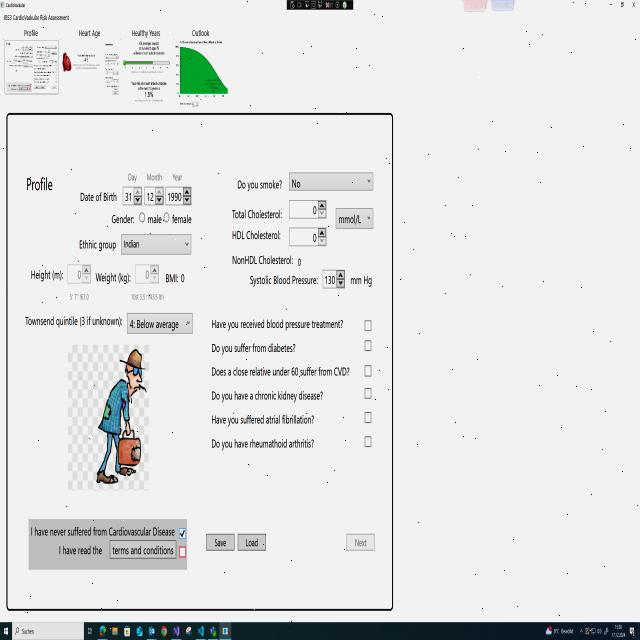button: (107, 539, 177, 567), (237, 524, 271, 557), (344, 531, 378, 558), (204, 532, 236, 554), (629, 0, 637, 12), (618, 0, 625, 11), (606, 0, 614, 8)
checkbox: (362, 313, 375, 337), (362, 406, 377, 426), (359, 384, 375, 402), (362, 361, 376, 381), (360, 434, 374, 453), (360, 338, 374, 357), (178, 521, 190, 541), (178, 544, 189, 563)
dropdownMenu: (288, 168, 377, 196), (120, 231, 196, 258), (125, 309, 198, 337), (334, 204, 377, 234), (554, 627, 583, 636)
icon: (219, 622, 231, 640), (209, 624, 217, 638), (197, 624, 204, 638), (172, 625, 180, 637), (99, 625, 106, 637), (136, 625, 143, 637), (148, 625, 155, 637), (629, 626, 636, 638), (185, 626, 192, 637), (124, 625, 130, 637), (161, 625, 167, 637), (546, 624, 552, 636), (112, 626, 118, 636), (604, 625, 609, 637), (585, 626, 590, 636), (4, 624, 8, 636), (597, 627, 602, 636), (88, 626, 92, 636), (591, 628, 596, 636)
input: (12, 622, 84, 640)
label: (208, 306, 346, 334), (208, 361, 353, 382), (22, 307, 122, 334), (208, 387, 324, 407), (28, 522, 177, 536), (208, 412, 317, 429), (244, 271, 318, 292), (209, 438, 318, 452), (208, 342, 302, 356), (228, 252, 303, 268), (226, 204, 284, 224), (226, 226, 284, 244), (22, 172, 58, 200), (234, 176, 286, 195), (75, 186, 119, 207), (74, 235, 119, 254), (54, 543, 104, 560), (1, 12, 71, 24), (26, 265, 64, 285), (94, 268, 131, 287), (350, 268, 374, 290), (163, 269, 187, 288), (170, 212, 198, 228), (129, 291, 166, 303), (189, 21, 213, 38), (110, 213, 138, 226), (130, 26, 163, 37), (145, 168, 165, 186), (63, 291, 93, 303), (17, 25, 42, 38), (78, 26, 102, 39), (125, 165, 139, 183), (148, 212, 162, 228), (171, 169, 184, 185)
menu: (1, 620, 640, 640)
radio: (138, 211, 146, 225), (162, 211, 170, 224)
upDown: (287, 225, 331, 249), (287, 198, 331, 221), (66, 259, 94, 287), (134, 259, 162, 286), (322, 265, 347, 293), (165, 186, 192, 206), (122, 186, 142, 210), (144, 186, 164, 206)
